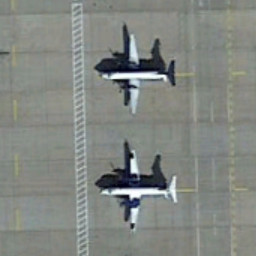Airplane: (92, 145, 187, 244), (91, 27, 187, 122)
